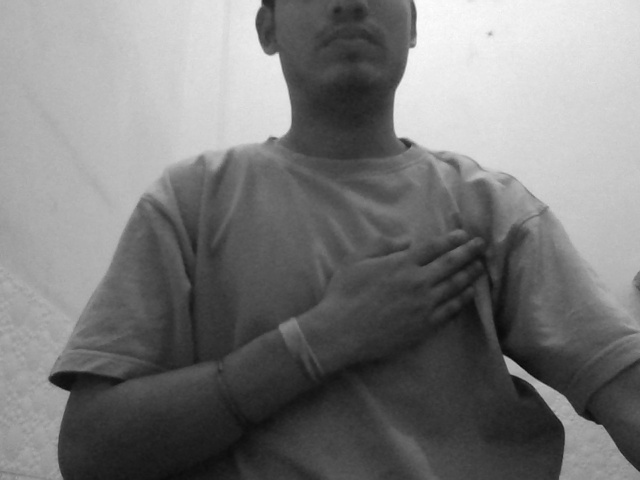Sorry: (307, 215, 503, 367)
